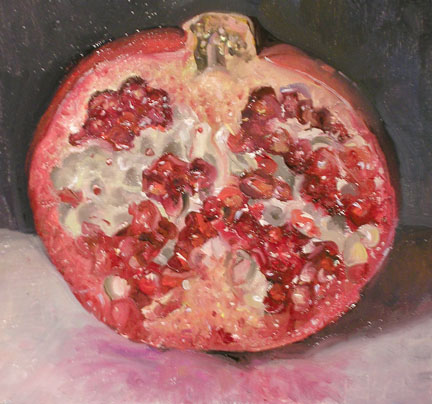pomogranate: (29, 9, 401, 356)
